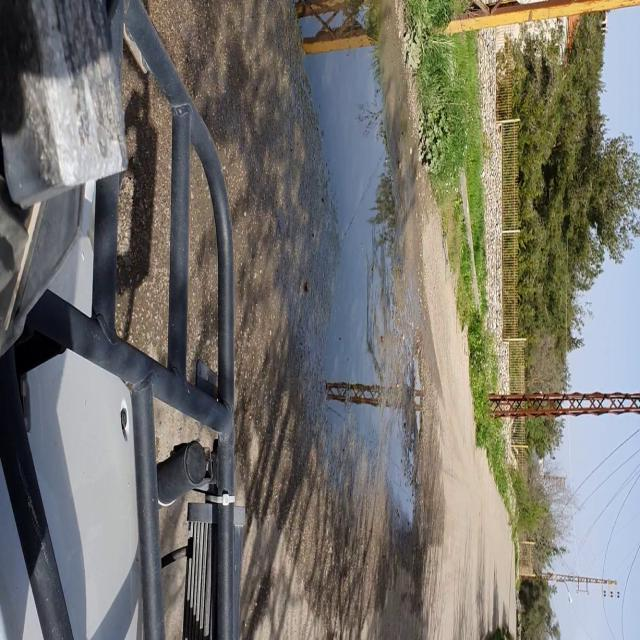pothole: (410, 341, 431, 445)
